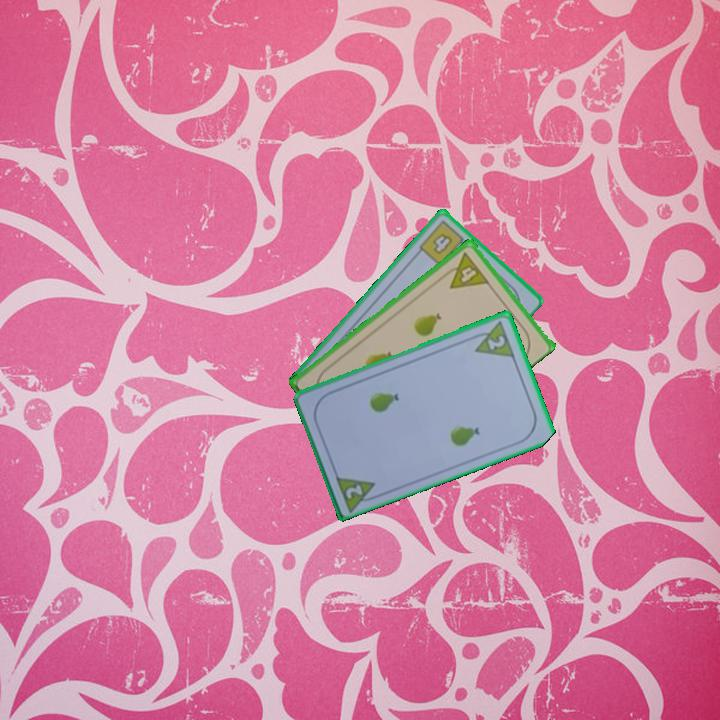2p: (467, 317, 518, 360), (342, 480, 366, 502)
4b: (415, 217, 471, 269)
4p: (439, 248, 491, 291)
